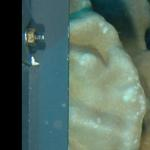alive: (27, 9, 147, 148)
